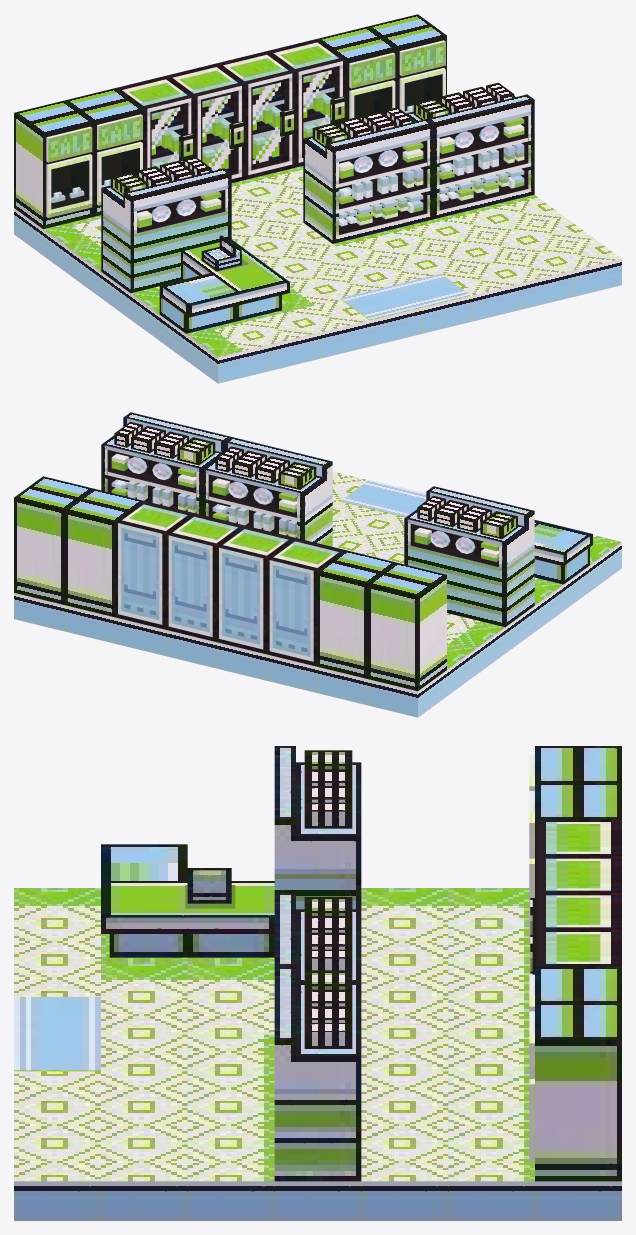
Rendered from zone_family_mart_interior.glb.
3 renders of one model, top to bottom at view 1: azimuth 30°, elevation 25°; view 2: azimuth 150°, elevation 25°; view 3: azimuth 270°, elevation 25°, orthographic. The views are drawn at different scales.
Parts seen in each view (by area): view 1: Floor, Balcony_Shelf, Shelf_pokemart_mat_0.001, Balcony, Shelf, Sale_Shelf_pokemart_mat_0.003, Fridge_Door_pokemart_fridge_mat_0.001, Mat, Fridge_Door_pokemart_fridge_mat_0.002, Sale_Shelf_Inside_pokemart_mat_0.003, Sale_Shelf_pokemart_mat_0.002, Fridge_pokemart_fridge_mat_0.001 (+18 smaller); view 2: Floor, Balcony_Shelf, Sale_Shelf_pokemart_mat_0.003, Sale_Shelf_pokemart_mat_0.001, Sale_Shelf_pokemart_mat_0.002, Sale_Shelf, Shelf_pokemart_mat_0.001, Fridge, Fridge_pokemart_fridge_mat_0.003, Fridge_pokemart_fridge_mat_0.001, Fridge_pokemart_fridge_mat_0.002, Shelf (+14 smaller); view 3: Floor, Sale_Shelf, Balcony, Shelf, Balcony_Shelf, Mat, Sale_Shelf_pokemart_mat_0.001, Sale_Shelf_pokemart_mat_0.002, Sale_Shelf_pokemart_mat_0.003, Shelf_pokemart_mat_0.001, Fridge, Fridge_pokemart_fridge_mat_0.003 (+15 smaller).
Boxes of the visible parts, left/top/right/bottom form: Floor: left=14, top=166, right=621, bottom=383; Balcony_Shelf: left=101, top=168, right=231, bottom=293; Shelf_pokemart_mat_0.001: left=303, top=119, right=433, bottom=243; Balcony: left=159, top=239, right=289, bottom=333; Shelf: left=406, top=94, right=534, bottom=218; Sale_Shelf_pokemart_mat_0.003: left=14, top=100, right=93, bottom=229; Fridge_Door_pokemart_fridge_mat_0.001: left=242, top=70, right=295, bottom=179; Mat: left=341, top=273, right=469, bottom=319; Fridge_Door_pokemart_fridge_mat_0.002: left=191, top=82, right=244, bottom=182; Sale_Shelf_Inside_pokemart_mat_0.003: left=46, top=154, right=92, bottom=217; Sale_Shelf_pokemart_mat_0.002: left=65, top=88, right=143, bottom=216; Fridge_pokemart_fridge_mat_0.001: left=216, top=51, right=291, bottom=163; Floor: left=14, top=471, right=621, bottom=717; Balcony_Shelf: left=404, top=486, right=534, bottom=627; Sale_Shelf_pokemart_mat_0.003: left=367, top=562, right=446, bottom=691; Sale_Shelf_pokemart_mat_0.001: left=64, top=488, right=143, bottom=617; Sale_Shelf_pokemart_mat_0.002: left=317, top=550, right=396, bottom=678; Sale_Shelf: left=14, top=476, right=93, bottom=604; Shelf_pokemart_mat_0.001: left=202, top=437, right=332, bottom=546; Fridge: left=115, top=503, right=190, bottom=629; Fridge_pokemart_fridge_mat_0.003: left=266, top=540, right=341, bottom=666; Fridge_pokemart_fridge_mat_0.001: left=165, top=516, right=240, bottom=641; Fridge_pokemart_fridge_mat_0.002: left=216, top=528, right=291, bottom=653; Shelf: left=101, top=412, right=230, bottom=514; Floor: left=14, top=888, right=621, bottom=1220; Sale_Shelf: left=535, top=1003, right=621, bottom=1181; Balcony: left=101, top=844, right=274, bottom=957; Shelf: left=274, top=966, right=361, bottom=1181; Balcony_Shelf: left=274, top=746, right=361, bottom=909; Mat: left=14, top=997, right=100, bottom=1070; Sale_Shelf_pokemart_mat_0.001: left=535, top=966, right=621, bottom=1002; Sale_Shelf_pokemart_mat_0.002: left=535, top=783, right=621, bottom=819; Sale_Shelf_pokemart_mat_0.003: left=535, top=746, right=621, bottom=782; Shelf_pokemart_mat_0.001: left=274, top=893, right=361, bottom=982; Fridge: left=546, top=929, right=621, bottom=966; Fridge_pokemart_fridge_mat_0.003: left=546, top=819, right=621, bottom=856.
Bounding box in the file's own units: 8 × 2.31 × 7.
3 materials, 3 textured.
